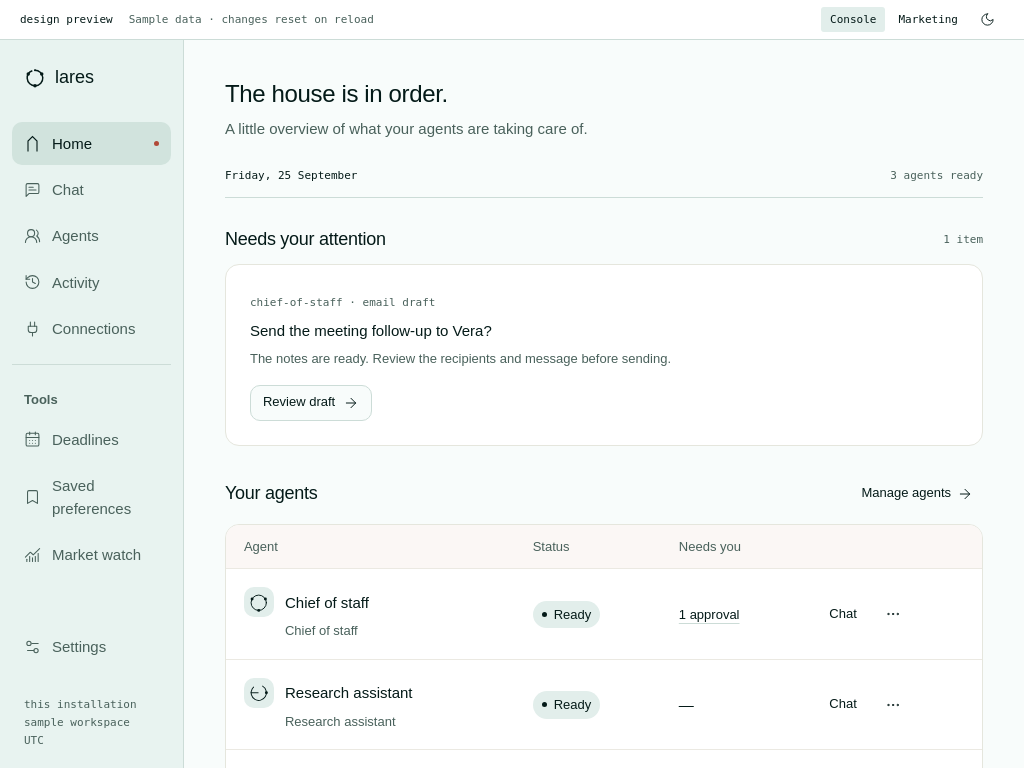
standalone preview journeys › renders AI Elements chat and cancels a pending sample reply on new conversation
Click the 1st button "Chat". click: coordinates (92, 190)
box: [12,168,171,211]
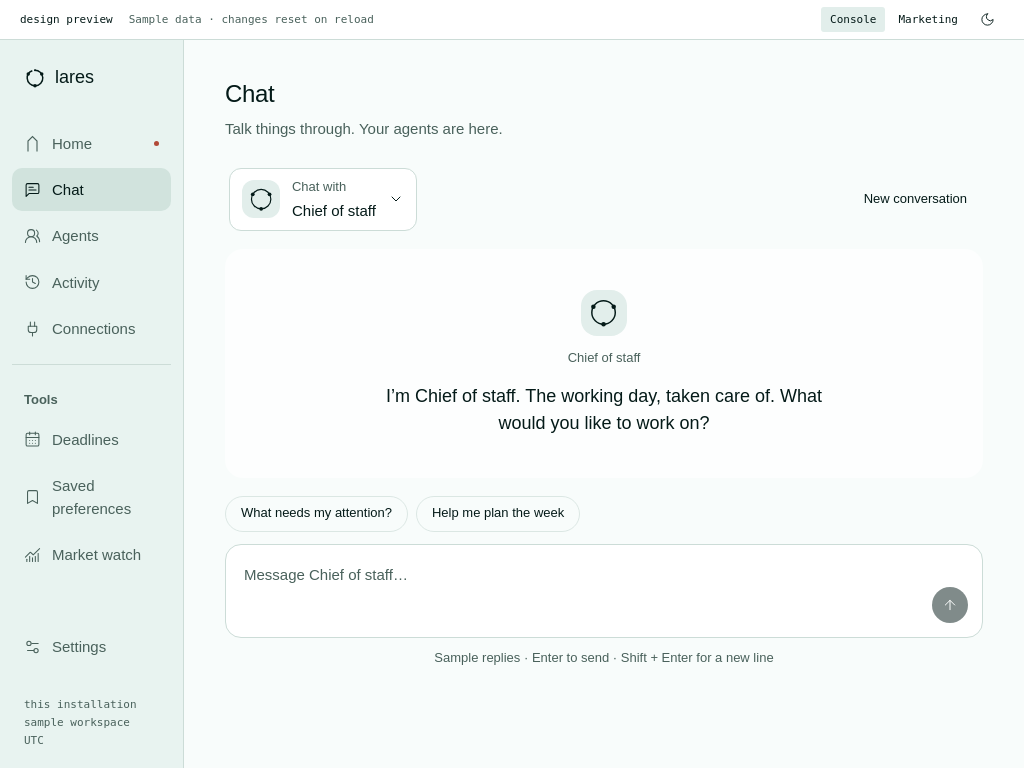
Now the element that starts with "Chief of staff" is shown, box [225,249,983,478]
Type "Hello" into the text box labelled "Message Chief of staff". click: coordinates (604, 591)
box: [230,549,978,633]
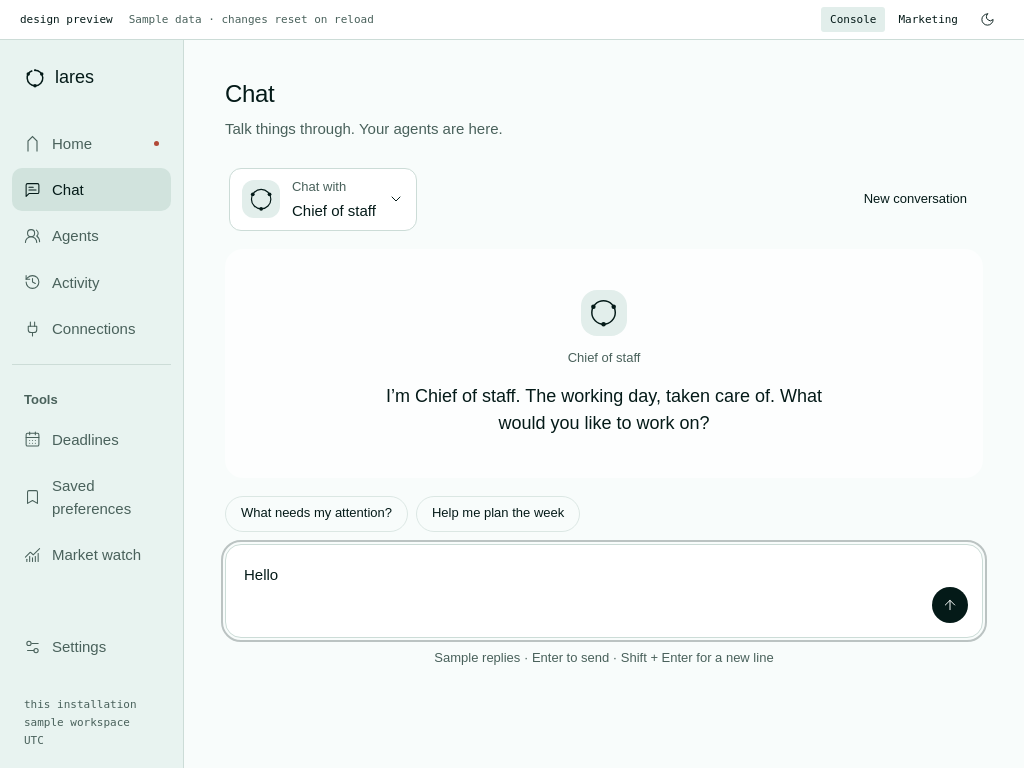
Click the button named "Send message". click: coordinates (950, 605)
box: [932,587,968,623]
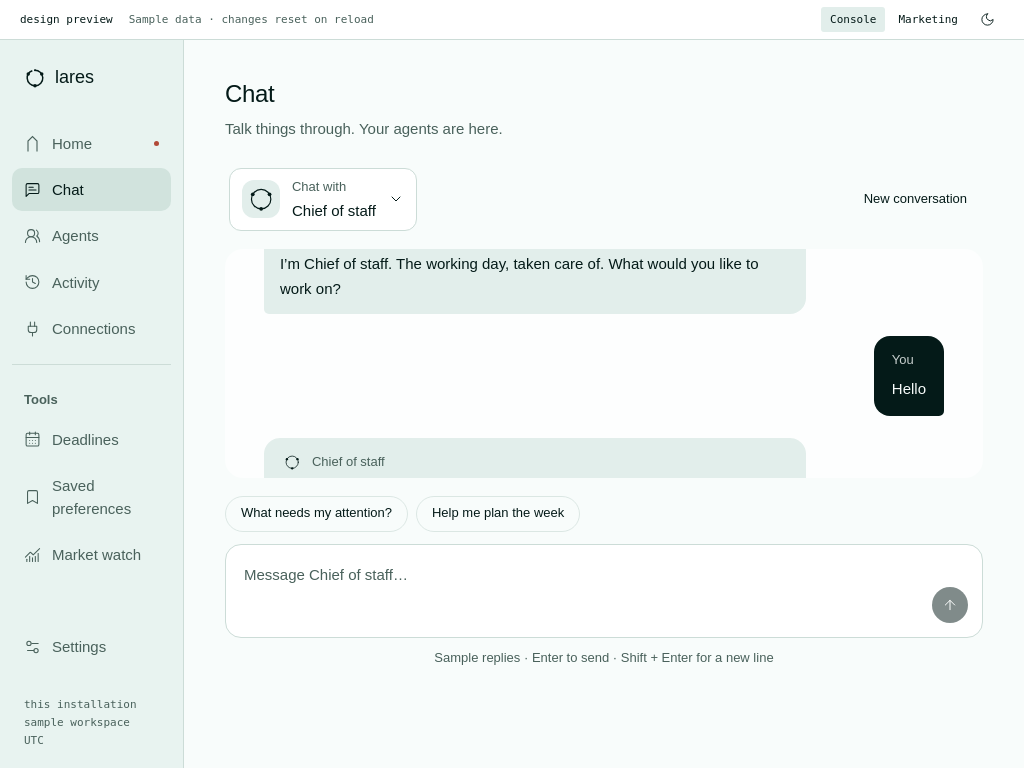
Now the text "Hello" is shown, box [892,376,926,402]
Click the button "What needs my attention?". click: coordinates (316, 514)
box: [225,496,408,532]
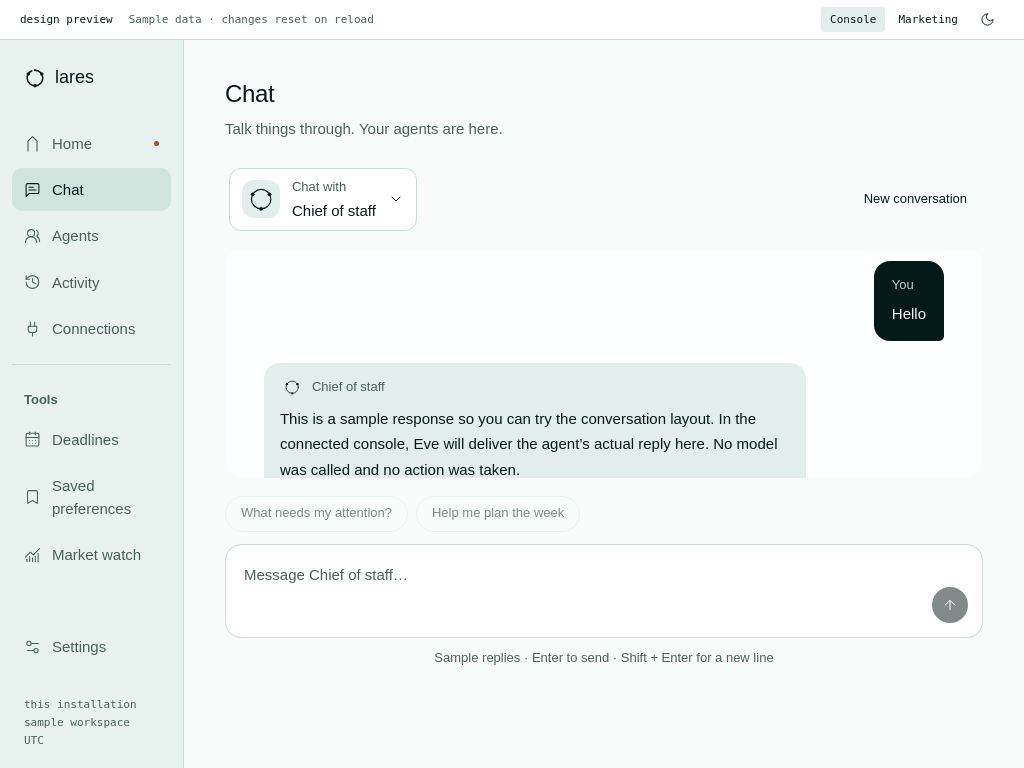
Click the button "New conversation". click: coordinates (915, 199)
box: [852,181,979,217]
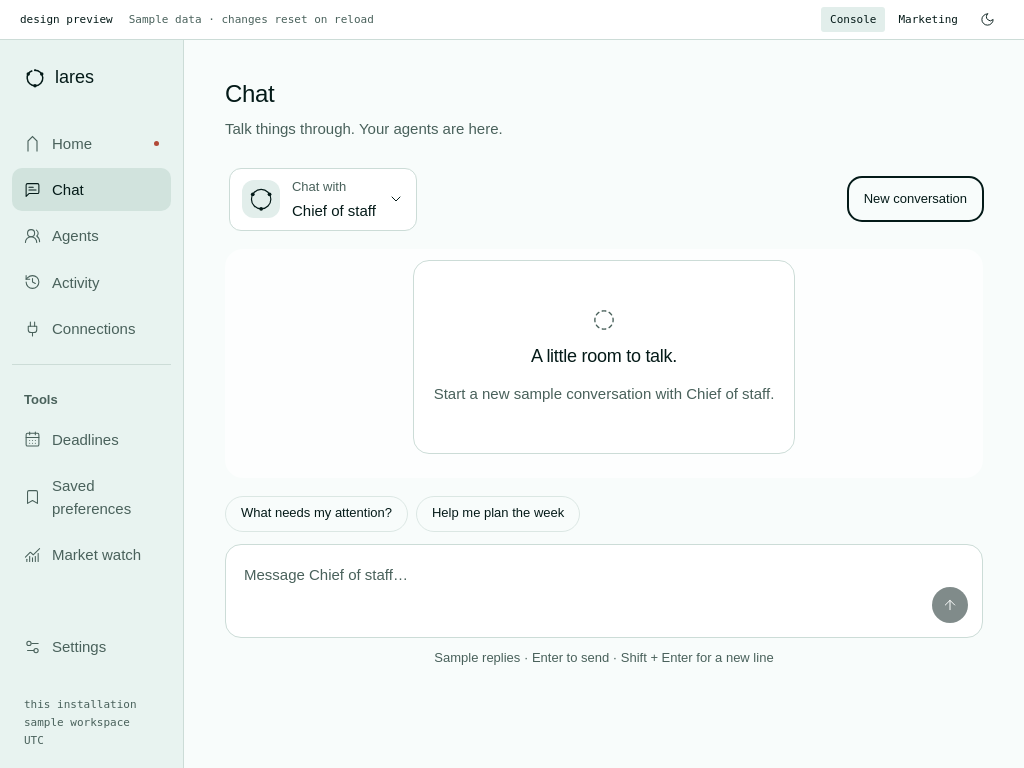
Expected: the text "Preparing sample response…" is not shown
Now the heading "A little room to talk." is shown, box [531,345,677,368]
